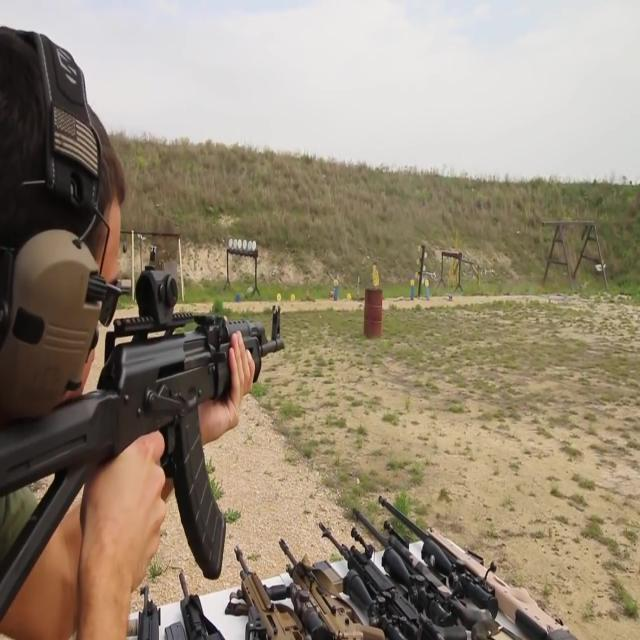Weapon: (133, 399, 640, 640), (0, 251, 309, 588)
